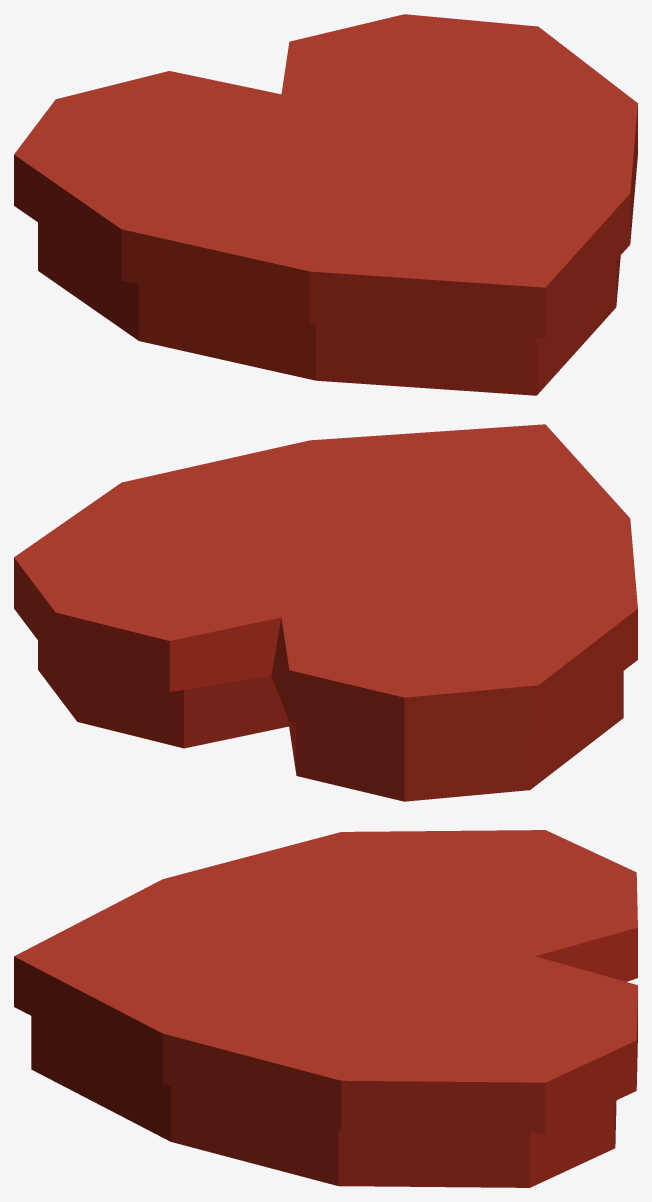
The model's file is SM_Prop_ChocolateBox_01.fbx.
3 renders of one model, top to bottom at view 1: azimuth 30°, elevation 25°; view 2: azimuth 150°, elevation 25°; view 3: azimuth 270°, elevation 25°, orthographic.
Visible parts, largest first — view 1: SM_Prop_ChocolateBox_Lid_01, SM_Prop_ChocolateBox_01; view 2: SM_Prop_ChocolateBox_Lid_01, SM_Prop_ChocolateBox_01; view 3: SM_Prop_ChocolateBox_Lid_01, SM_Prop_ChocolateBox_01.
Part boxes in pixels (x1=…): SM_Prop_ChocolateBox_Lid_01: x1=14, y1=14, x2=637, y2=338; SM_Prop_ChocolateBox_01: x1=38, y1=222, x2=620, y2=395; SM_Prop_ChocolateBox_Lid_01: x1=14, y1=424, x2=637, y2=748; SM_Prop_ChocolateBox_01: x1=38, y1=641, x2=623, y2=801; SM_Prop_ChocolateBox_Lid_01: x1=14, y1=830, x2=637, y2=1133; SM_Prop_ChocolateBox_01: x1=31, y1=1016, x2=616, y2=1187.
Size of the model in its own units: 46.71 by 9.75 by 48.76.
Materials: 1 (1 with a texture image).
